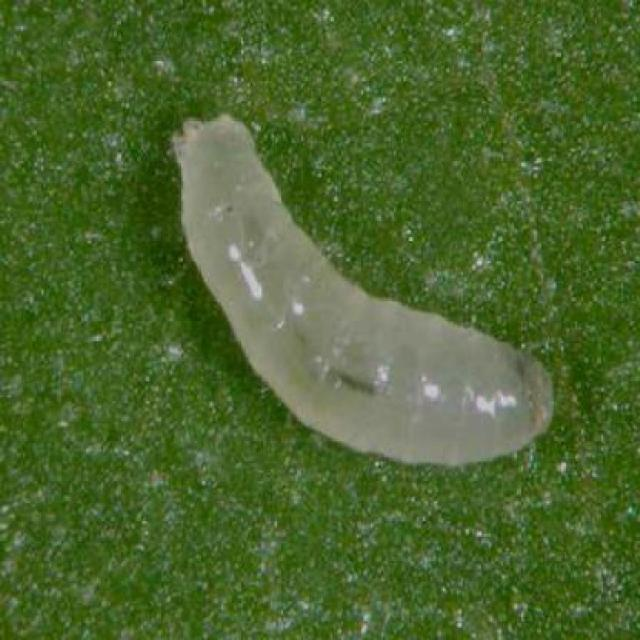whorl-maggot: (168, 101, 560, 474)
